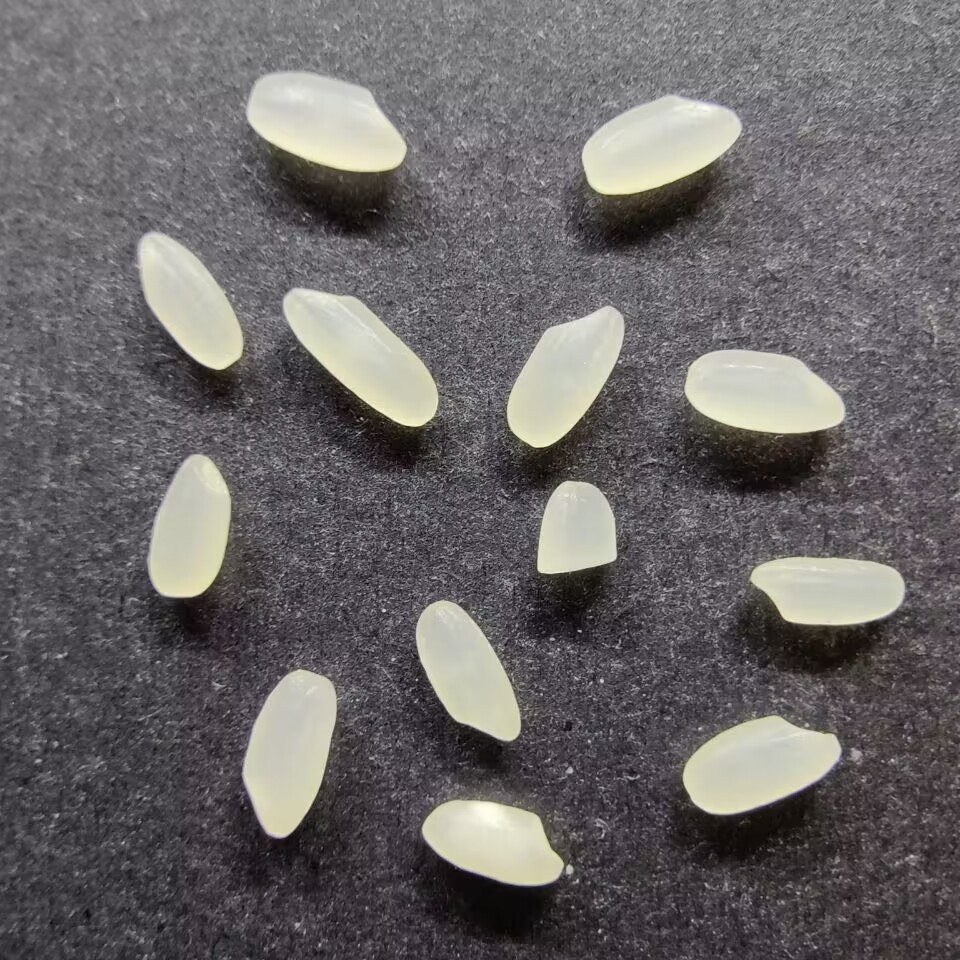broken: (534, 478, 618, 579)
rice: (280, 286, 441, 427), (504, 305, 626, 449), (239, 668, 338, 839), (244, 70, 407, 173), (579, 93, 742, 196), (680, 714, 842, 816), (413, 599, 522, 743), (135, 230, 244, 370), (682, 347, 846, 434), (145, 452, 233, 599), (419, 798, 564, 887), (748, 555, 905, 627)
